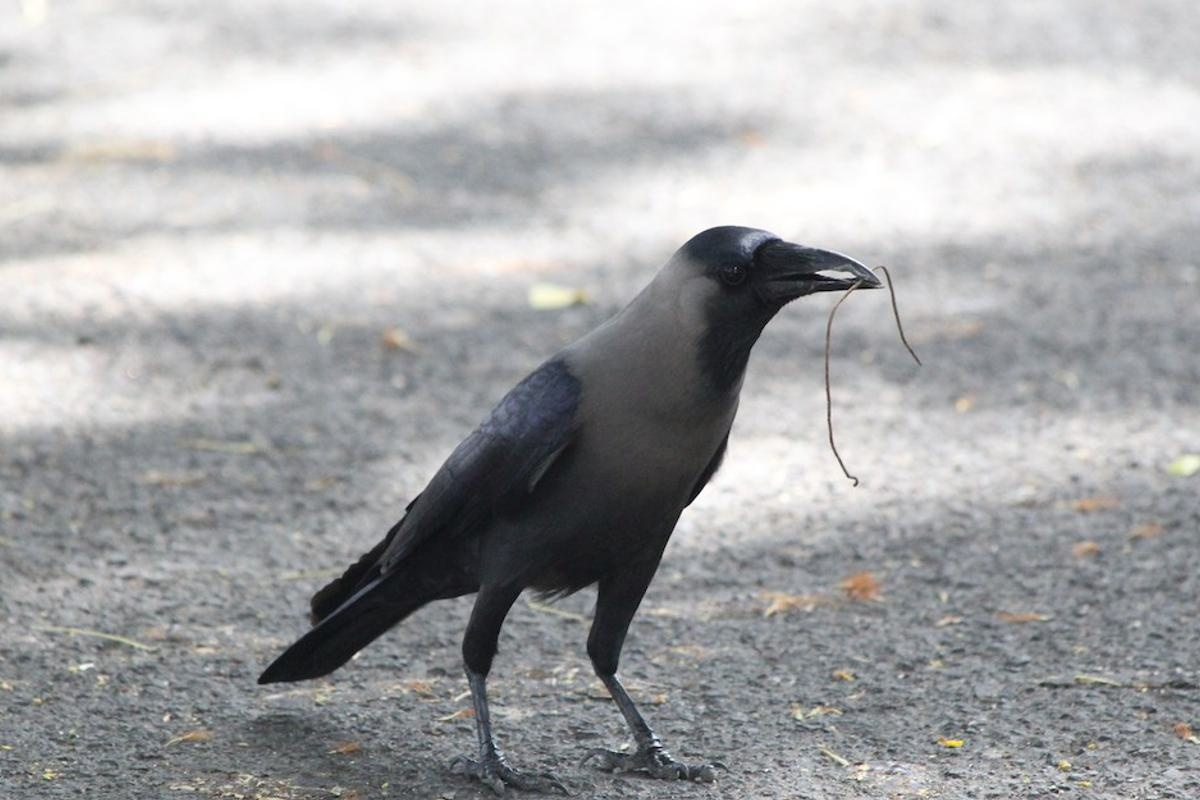crow: (243, 213, 915, 800)
